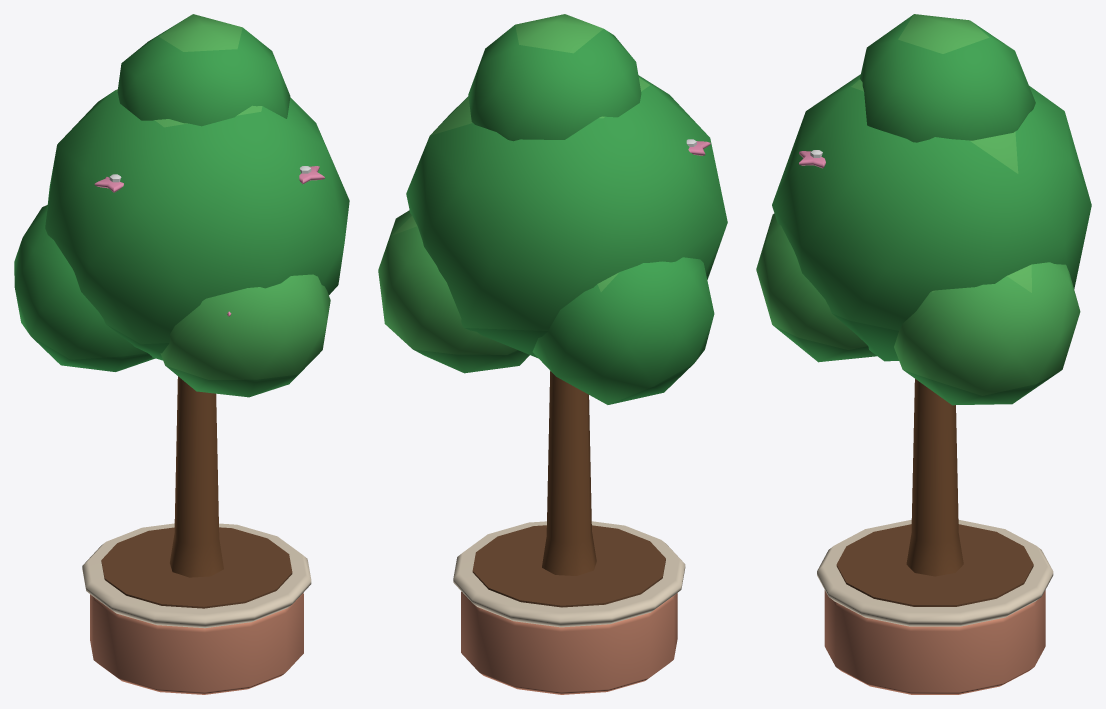
Rendered from block-deco3.glb.
3 views of the same model, side by side, from view 1: azimuth 30°, elevation 25°; view 2: azimuth 150°, elevation 25°; view 3: azimuth 270°, elevation 25° (orthographic). The views are drawn at different scales.
Parts seen in each view (by area): view 1: block-deco3; view 2: block-deco3; view 3: block-deco3.
Boxes of the visible parts, x1,y1,x2,y2 form: block-deco3: [14, 14, 349, 694]; block-deco3: [378, 14, 727, 694]; block-deco3: [756, 14, 1091, 694].
Bounding box in the file's own units: 1.8 × 3.55 × 1.7.
